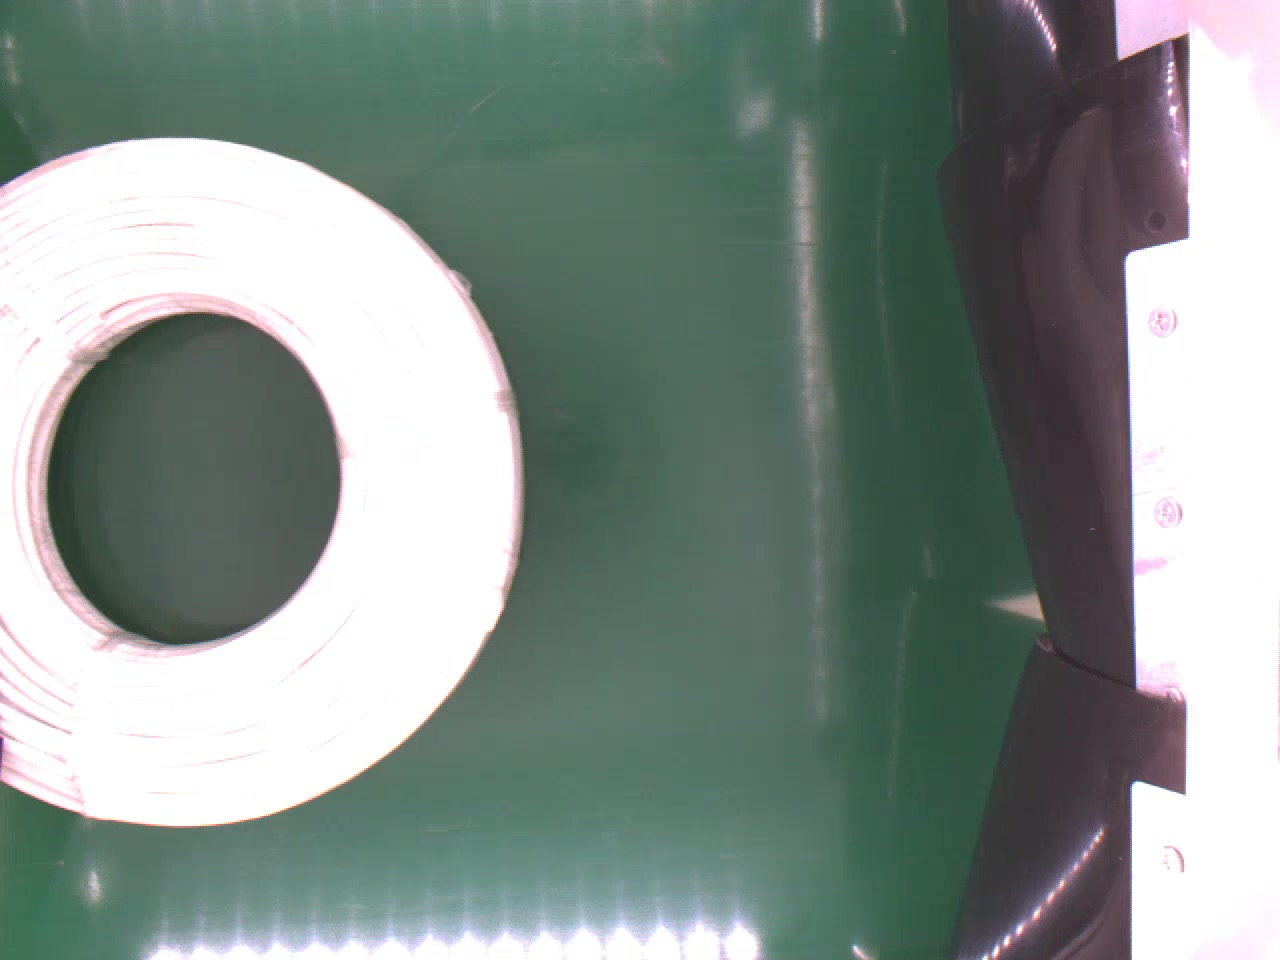white: (0, 134, 518, 830)
